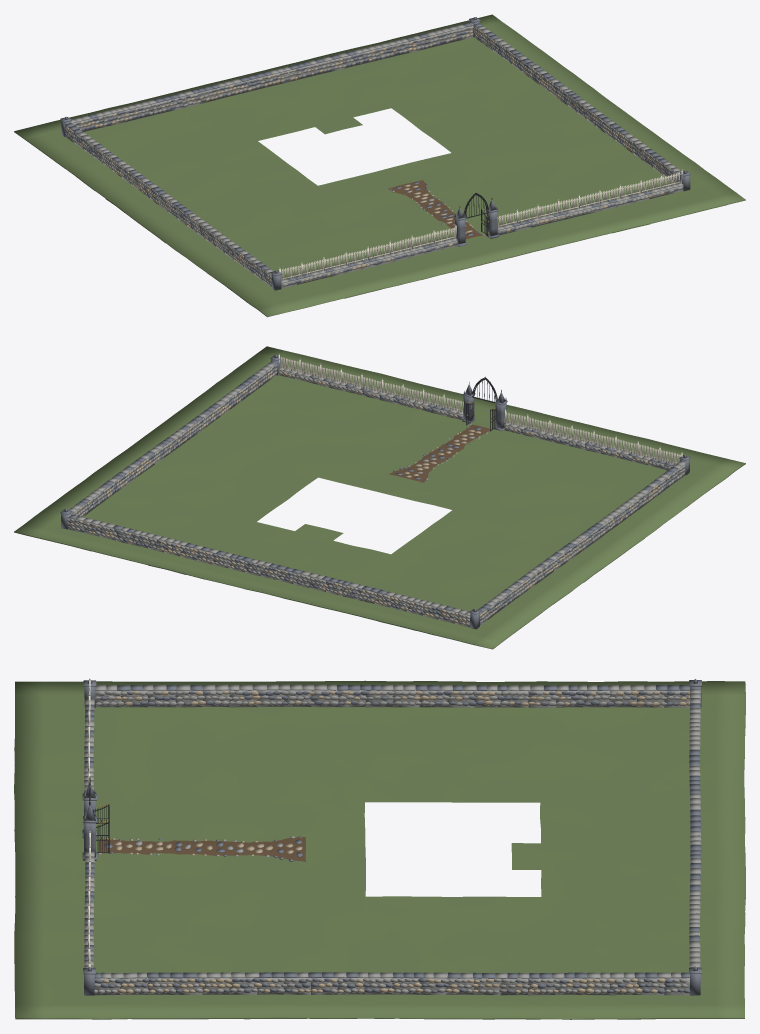
File: Museum_Ext_Ground.fbx
3 renders of one model, top to bottom at view 1: azimuth 30°, elevation 25°; view 2: azimuth 150°, elevation 25°; view 3: azimuth 270°, elevation 25°, orthographic. The views are drawn at different scales.
Parts seen in each view (by area): view 1: Env_Terrain, Env_StoneWall, Env_PicketFence, Env_Path, Env_GothicGate; view 2: Env_Terrain, Env_StoneWall, Env_PicketFence, Env_Path, Env_GothicGate; view 3: Env_Terrain, Env_StoneWall, Env_Path, Env_PicketFence, Env_GothicGate.
Part boxes in pixels (x1=…): Env_Terrain: x1=14, y1=14, x2=745, y2=317; Env_StoneWall: x1=60, y1=17, x2=690, y2=290; Env_PicketFence: x1=279, y1=169, x2=683, y2=288; Env_Path: x1=388, y1=180, x2=484, y2=239; Env_GothicGate: x1=453, y1=191, x2=498, y2=246; Env_Terrain: x1=14, y1=346, x2=745, y2=649; Env_StoneWall: x1=60, y1=355, x2=690, y2=629; Env_PicketFence: x1=278, y1=354, x2=682, y2=470; Env_Path: x1=388, y1=423, x2=491, y2=482; Env_GothicGate: x1=462, y1=376, x2=507, y2=431; Env_Terrain: x1=14, y1=680, x2=745, y2=1019; Env_StoneWall: x1=83, y1=679, x2=701, y2=995; Env_Path: x1=98, y1=836, x2=305, y2=861; Env_PicketFence: x1=84, y1=678, x2=94, y2=967; Env_GothicGate: x1=82, y1=776, x2=97, y2=860.
Size of the model in its own units: 48.1 by 4.81 by 44.1.
